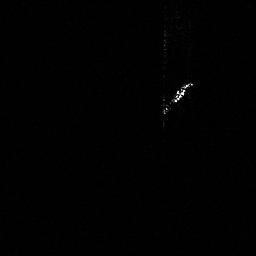ship: (158, 77, 198, 117)
